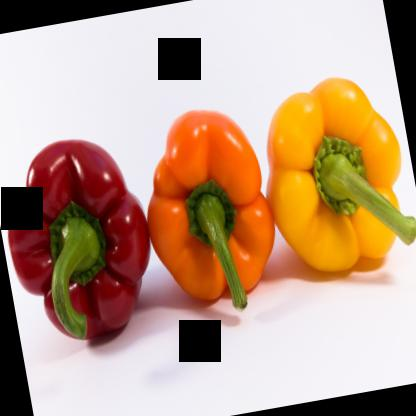bell pepper: (0, 129, 166, 357), (247, 60, 415, 277), (126, 101, 288, 325)
